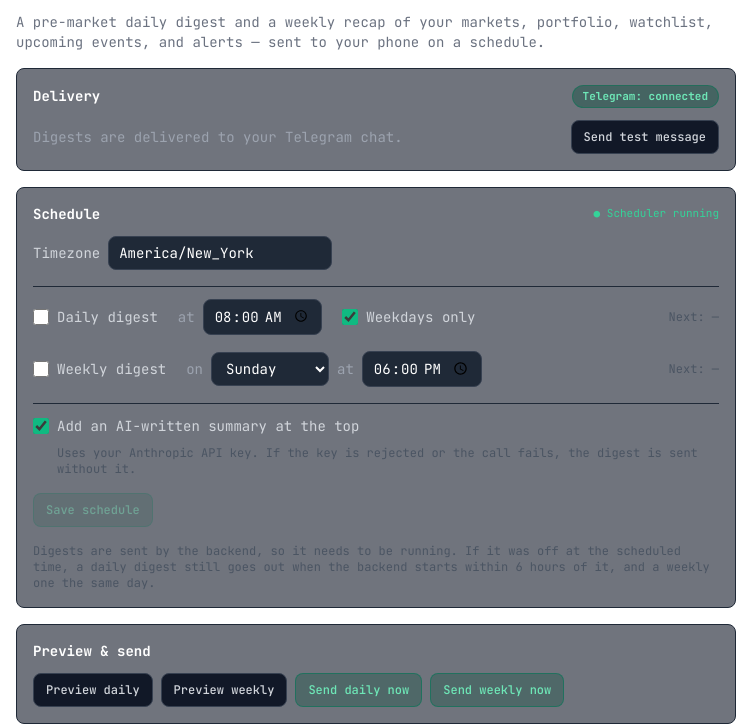
Scenario: DigestCenter › reports a failed send instead of claiming success
This screenshot has width=753, height=727.
Click the button "Send daily now": (359,690) [295,672,422,706]
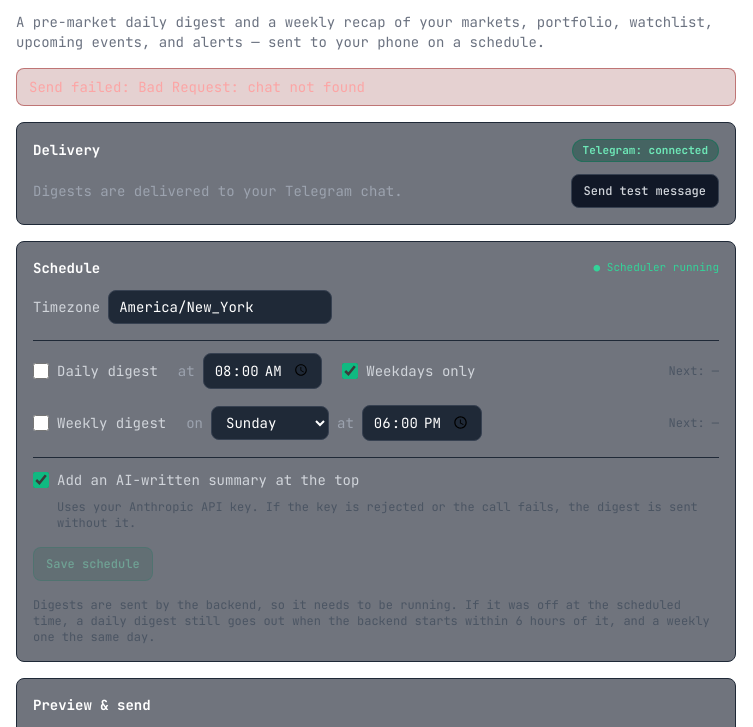
Check: the text "Send failed: Bad Request: chat not found" is shown, box [16,68,736,106]
